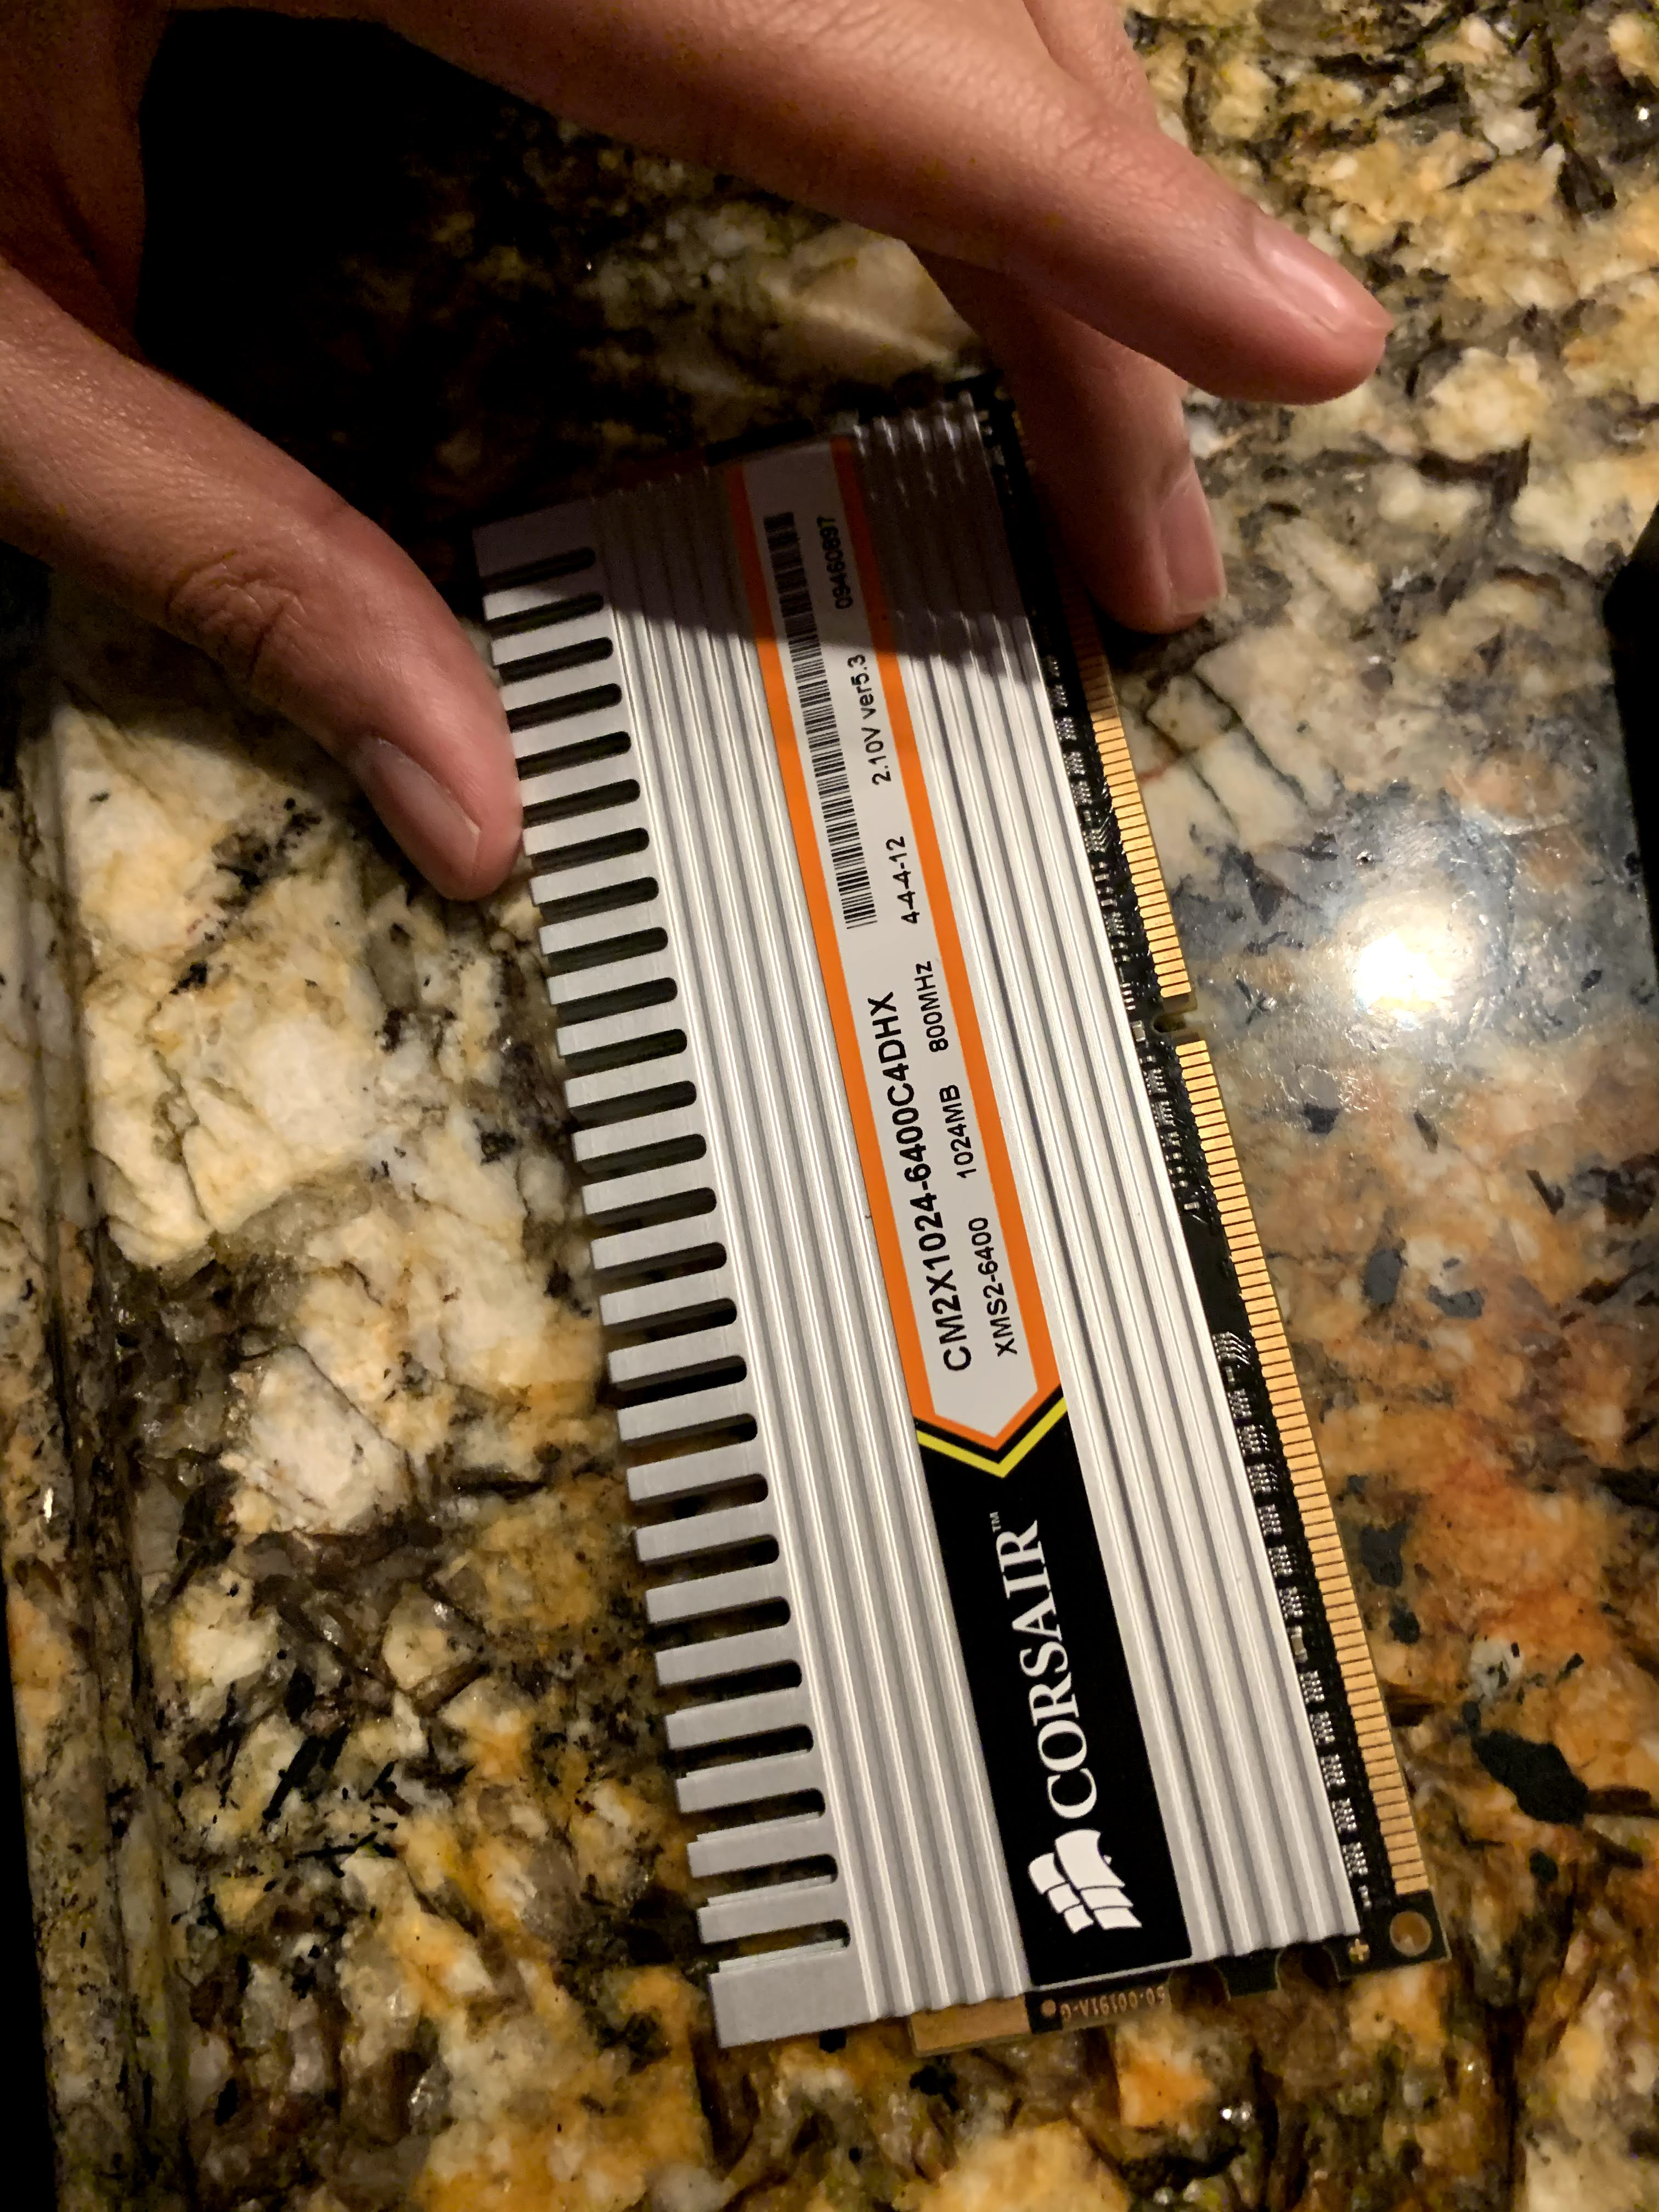Space-debris-medium: (425, 388, 1493, 2066)
